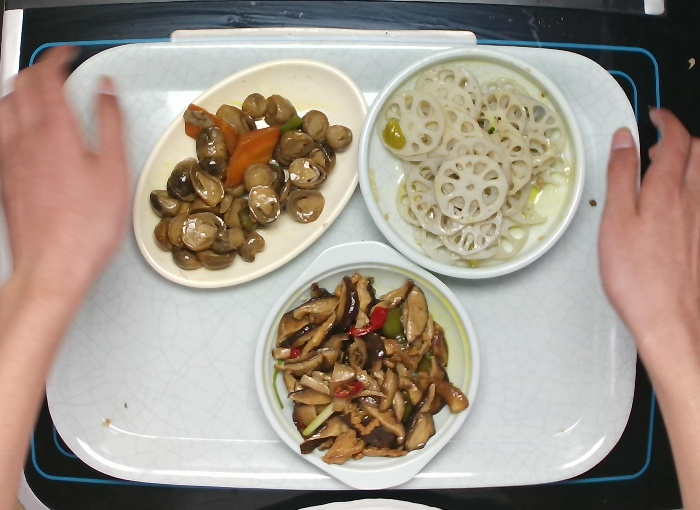JYsf-Shuang_Er_Pan: (247, 238, 484, 497)
JYsf-Tuo_Yuan_Wan: (133, 54, 372, 289)
JYsf-Xiao_Yuan_Pan: (352, 44, 593, 284)
